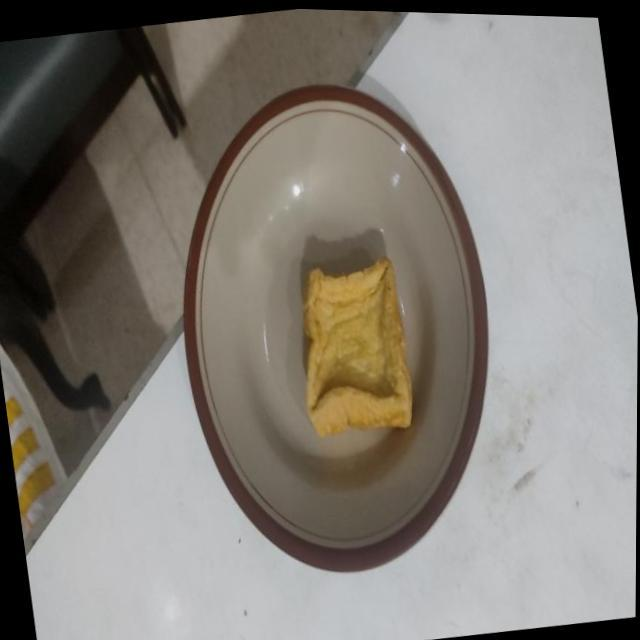tahu_goreng: (303, 258, 412, 436)
